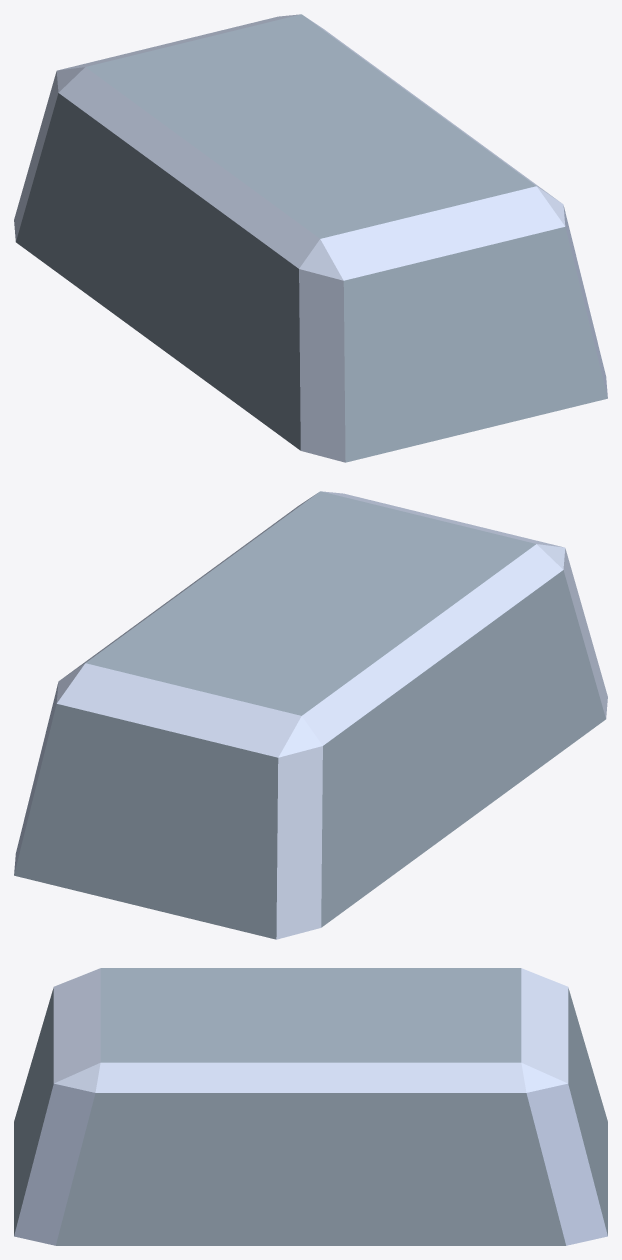
File: iron ingot.fbx
3 views of the same model, one above another, from view 1: azimuth 30°, elevation 25°; view 2: azimuth 150°, elevation 25°; view 3: azimuth 270°, elevation 25° (orthographic). The views are drawn at different scales.
Parts seen in each view (by area): view 1: iron ingot; view 2: iron ingot; view 3: iron ingot.
Boxes of the visible parts, x1,y1,x2,y2 form: iron ingot: (14, 14, 607, 462); iron ingot: (14, 491, 607, 939); iron ingot: (14, 968, 607, 1245).
Bounding box in the file's own units: 9.39 × 5.37 × 17.66.
